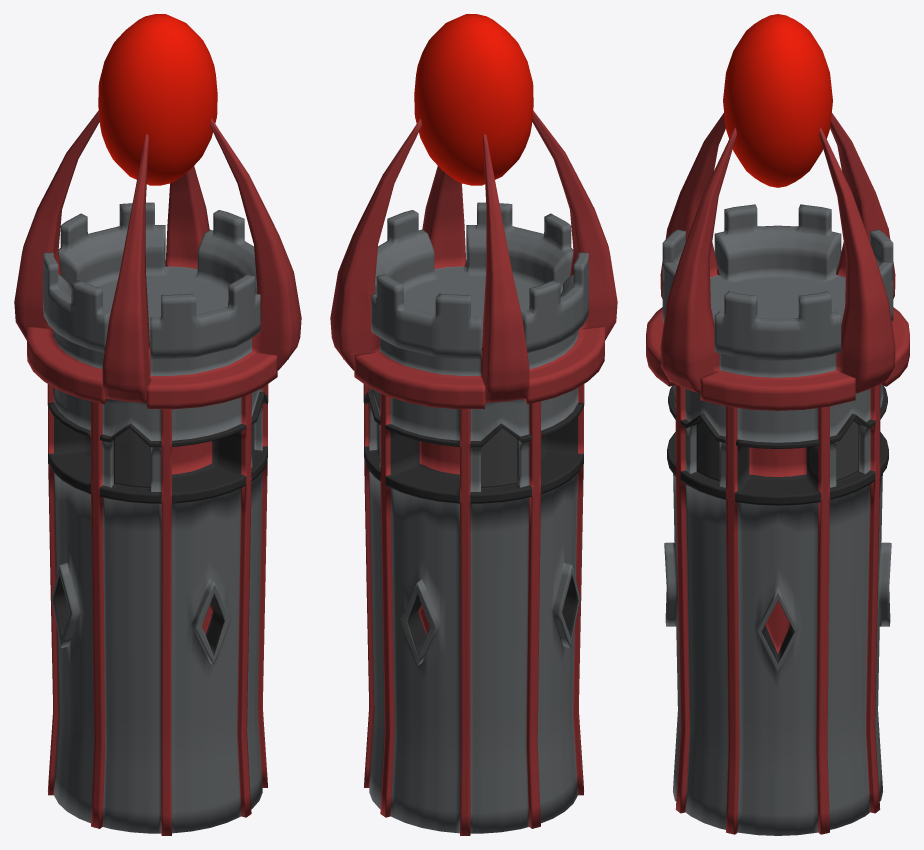
Rendered from FireTower.fbx.
3 views of the same model, side by side, from view 1: azimuth 30°, elevation 25°; view 2: azimuth 150°, elevation 25°; view 3: azimuth 270°, elevation 25° (orthographic).
Visible parts, largest first — view 1: FireTower; view 2: FireTower; view 3: FireTower.
Part boxes in pixels (bbox=[...]): FireTower: bbox=[14, 14, 301, 835]; FireTower: bbox=[330, 14, 617, 835]; FireTower: bbox=[646, 14, 909, 835].
Size of the model in its own units: 0.9085 by 2.94 by 0.9089.
